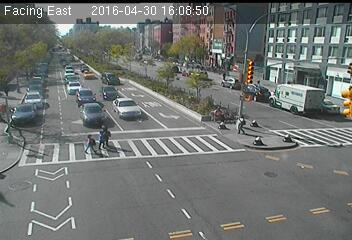neg: (240, 190, 269, 230), (195, 142, 220, 176), (125, 131, 150, 164), (172, 190, 197, 222), (66, 168, 90, 200), (160, 137, 183, 168), (177, 26, 199, 55), (284, 175, 306, 204), (235, 25, 256, 53), (128, 182, 149, 210), (314, 155, 335, 183), (20, 90, 40, 117), (41, 129, 60, 154), (154, 86, 172, 110), (209, 188, 227, 212), (42, 200, 59, 224), (160, 117, 177, 141), (188, 102, 204, 124), (111, 91, 127, 112), (60, 21, 76, 42), (265, 23, 280, 44), (67, 46, 82, 66), (249, 140, 264, 160), (20, 188, 35, 208), (122, 50, 137, 69), (279, 132, 294, 151), (149, 27, 164, 46), (81, 205, 95, 224), (51, 68, 64, 85), (306, 113, 319, 130), (33, 164, 46, 181), (254, 100, 266, 117), (116, 15, 128, 31), (179, 68, 190, 83), (96, 44, 107, 58), (88, 90, 98, 104), (33, 37, 43, 51), (277, 94, 287, 107), (284, 56, 293, 69), (296, 25, 304, 36), (332, 42, 340, 52), (311, 75, 316, 82)
pos: (80, 130, 100, 156), (95, 123, 113, 146), (94, 129, 110, 150), (232, 113, 247, 133), (220, 71, 228, 82), (254, 78, 261, 87)
